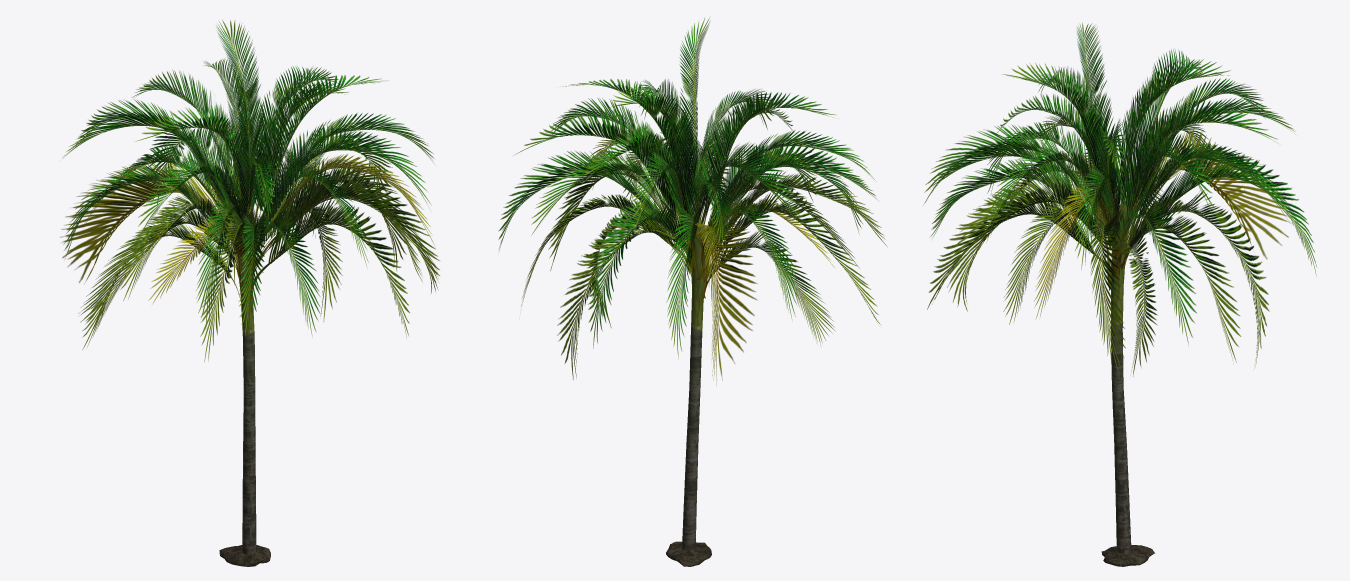
The model's file is coconut_tree.glb.
The picture shows the model from 3 angles, left to right: view 1: azimuth 30°, elevation 25°; view 2: azimuth 150°, elevation 25°; view 3: azimuth 270°, elevation 25°; orthographic projection. The views are drawn at different scales.
Visible parts, largest first — view 1: XI_SP_Tree.Shape; view 2: XI_SP_Tree.Shape; view 3: XI_SP_Tree.Shape.
Part boxes in pixels (x1,y1,x2,y2): XI_SP_Tree.Shape: [60, 20, 439, 566]; XI_SP_Tree.Shape: [498, 17, 886, 566]; XI_SP_Tree.Shape: [924, 23, 1316, 566].
Bounding box in the file's own units: 6.35 × 8.55 × 6.23.
2 materials, 2 textured.
